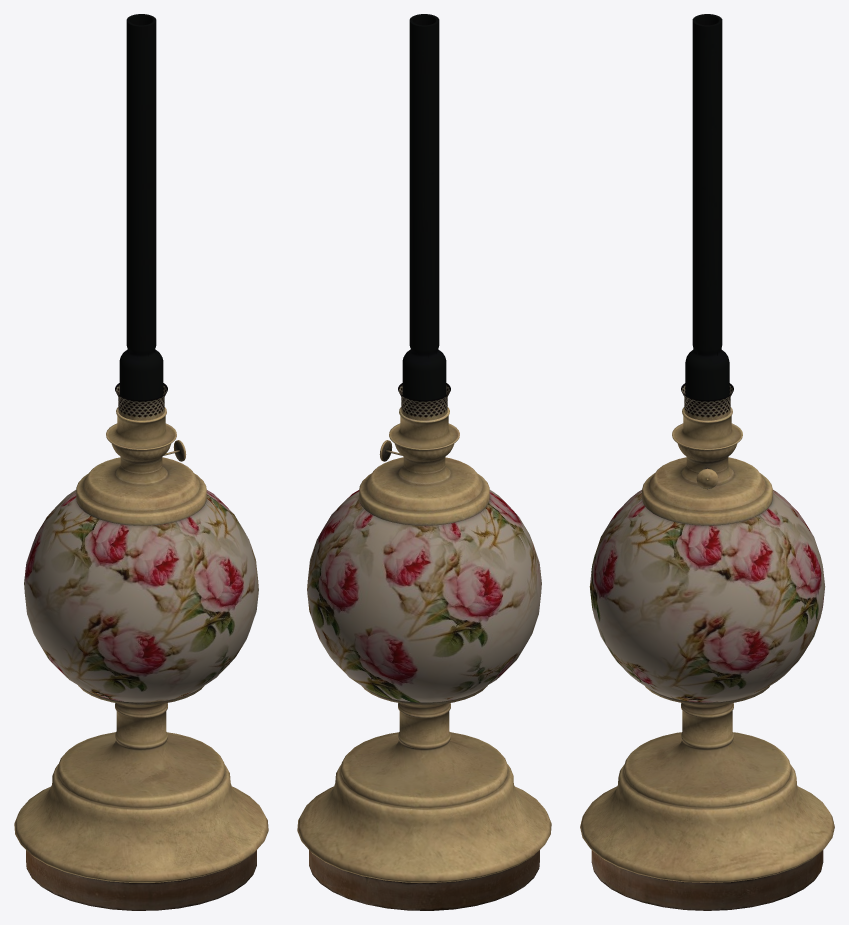
File: vintage_oil_lamp.gltf
3 views of the same model, side by side, from view 1: azimuth 30°, elevation 25°; view 2: azimuth 150°, elevation 25°; view 3: azimuth 270°, elevation 25° (orthographic).
Parts seen in each view (by area): view 1: vintage_oil_lamp, vintage_oil_lamp_glass; view 2: vintage_oil_lamp, vintage_oil_lamp_glass; view 3: vintage_oil_lamp, vintage_oil_lamp_glass.
Part boxes in pixels (<box>): vintage_oil_lamp: <box>14,407,268,910</box>; vintage_oil_lamp_glass: <box>115,14,167,420</box>; vintage_oil_lamp: <box>297,407,551,910</box>; vintage_oil_lamp_glass: <box>398,14,450,420</box>; vintage_oil_lamp: <box>580,407,834,910</box>; vintage_oil_lamp_glass: <box>681,14,733,420</box>.
Bounding box in the file's own units: 0.22 × 0.8016 × 0.22.
Materials: 3 (3 with a texture image).
